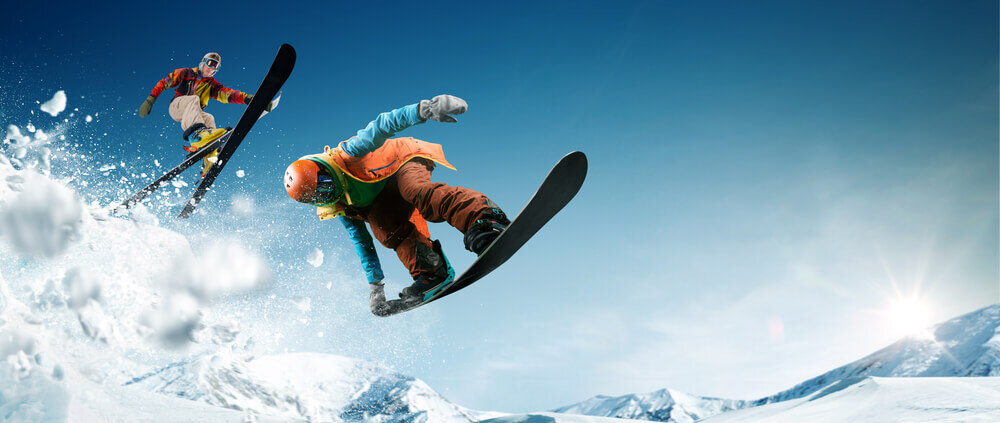skier: (94, 30, 308, 232)
snowboarder: (270, 96, 610, 332)
